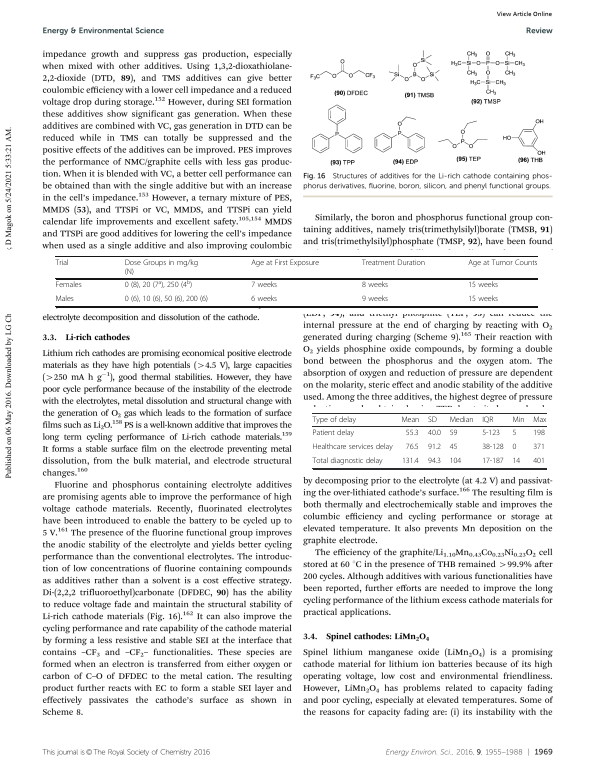borderless: (54, 255, 537, 306), (311, 412, 546, 468)
cell: (124, 259, 199, 277), (124, 295, 209, 305), (124, 279, 193, 291), (312, 443, 394, 453), (312, 457, 384, 467), (467, 259, 538, 268), (250, 259, 320, 268), (361, 259, 426, 268), (312, 429, 355, 439), (312, 416, 357, 425), (467, 281, 499, 291), (467, 295, 499, 305), (250, 281, 278, 291), (361, 281, 389, 291), (250, 295, 278, 305), (361, 295, 389, 305), (55, 281, 82, 291), (481, 443, 505, 453), (481, 457, 505, 467), (449, 416, 474, 425), (54, 295, 75, 305), (481, 429, 501, 439), (401, 457, 420, 467), (400, 416, 420, 425), (405, 429, 420, 439), (427, 429, 442, 439), (405, 443, 420, 453), (427, 443, 442, 453), (427, 457, 442, 467), (532, 429, 546, 439), (532, 443, 546, 453), (532, 457, 546, 467), (532, 416, 547, 425), (449, 457, 462, 467), (511, 416, 525, 425), (55, 259, 69, 268), (481, 416, 494, 425), (511, 457, 521, 467), (427, 416, 438, 425), (449, 429, 458, 439), (449, 443, 458, 453), (511, 429, 517, 439), (511, 443, 517, 453)
